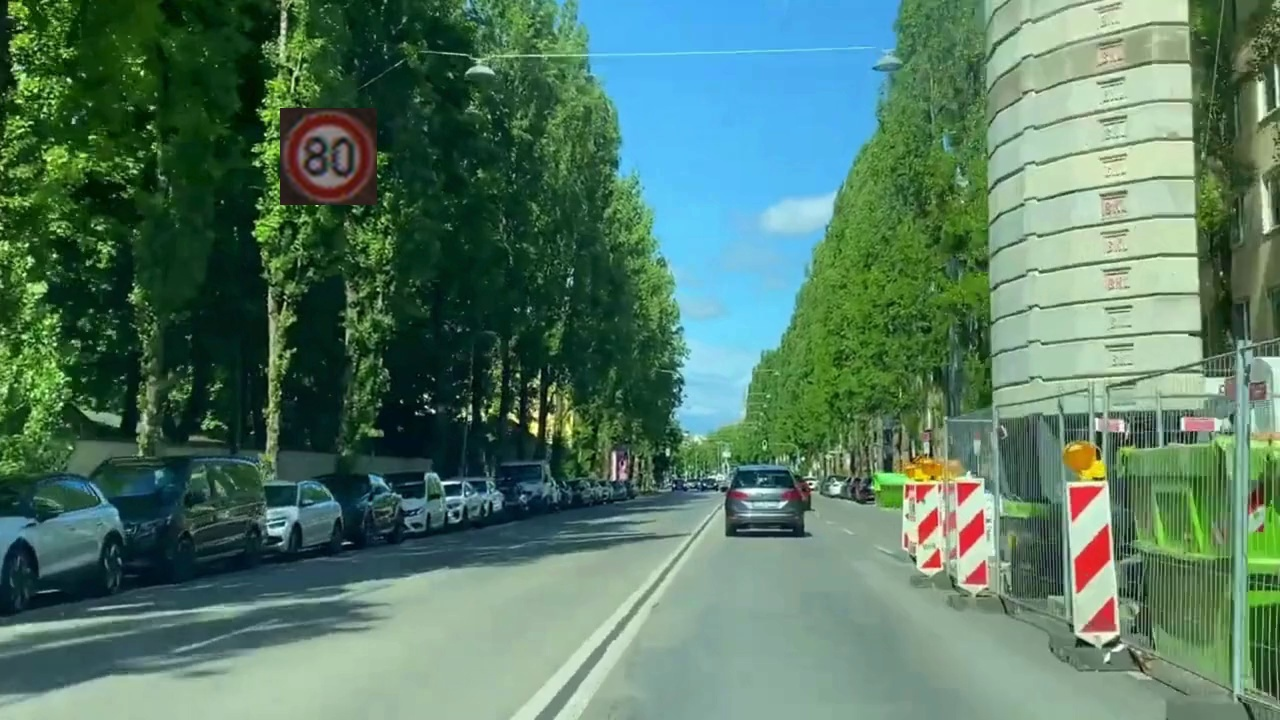Speed 80: (280, 108, 377, 205)
